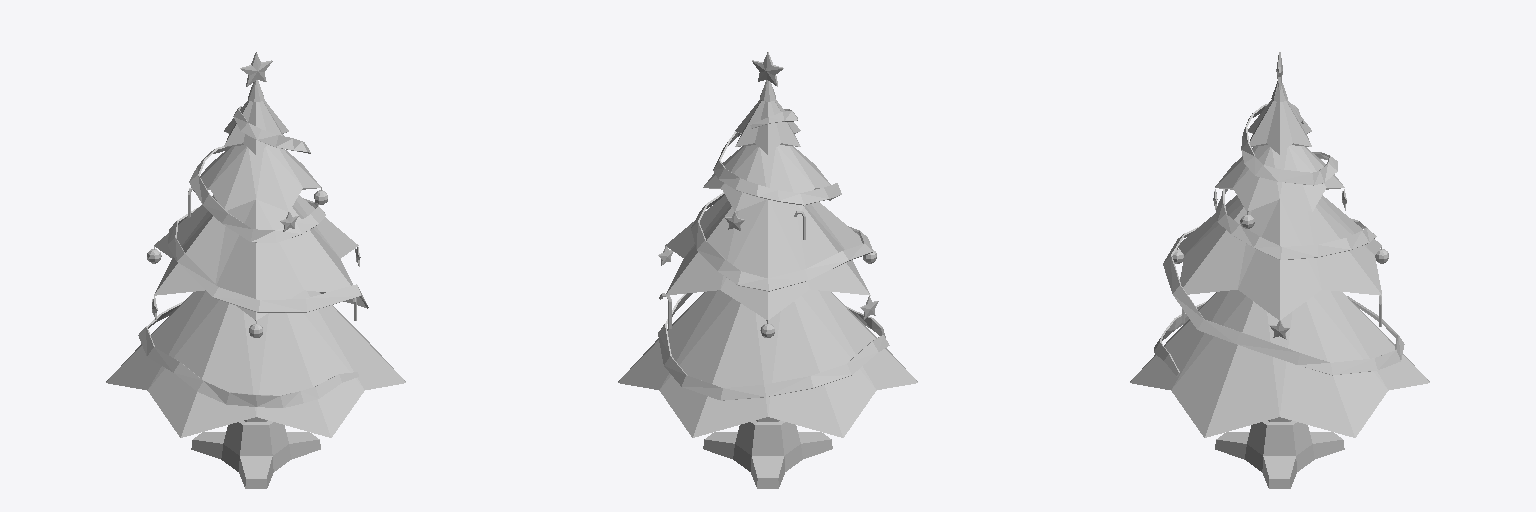
Rendered from christmasTreeNew.obj.
3 renders of one model, left to right at view 1: azimuth 30°, elevation 25°; view 2: azimuth 150°, elevation 25°; view 3: azimuth 270°, elevation 25°, orthographic.
Parts seen in each view (by area): view 1: Tree_Decorated_Cylinder.002; view 2: Tree_Decorated_Cylinder.002; view 3: Tree_Decorated_Cylinder.002.
Part boxes in pixels (x1,y1,x2,y2): Tree_Decorated_Cylinder.002: (106, 52, 405, 488); Tree_Decorated_Cylinder.002: (618, 52, 917, 488); Tree_Decorated_Cylinder.002: (1130, 52, 1429, 488).
Size of the model in its own units: 21.4 by 36.83 by 24.71.